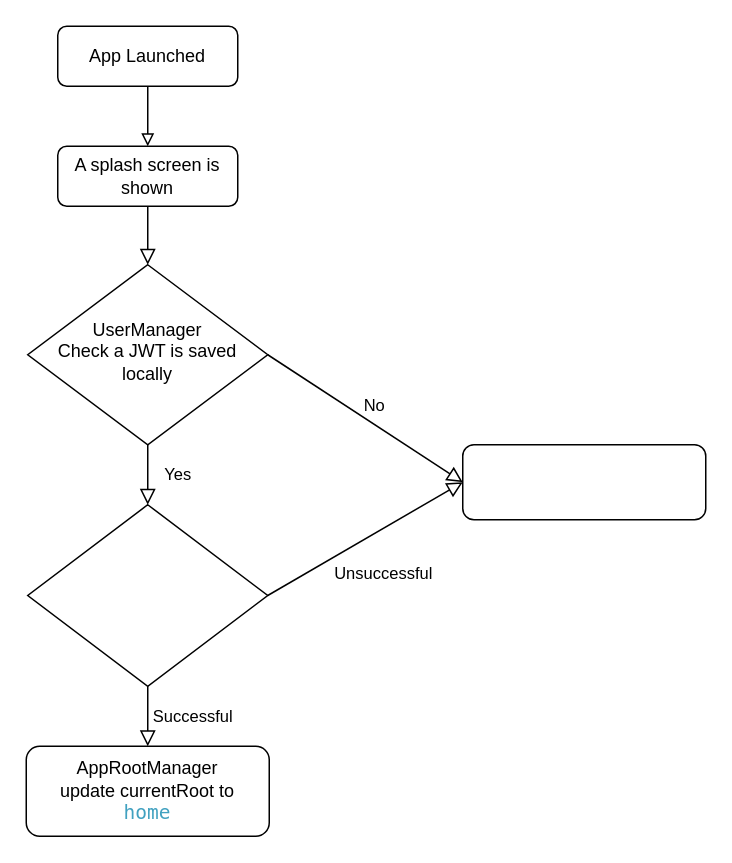
Image size: 732x863. Some labels were removed from this diagram. Here are the shapes that lost their labels. From the top down, the centre of each, then its label:
point (583, 481): AppRootManager update currentRoot to authentication
point (147, 594): Set Supabase session (Refresh if expired)
